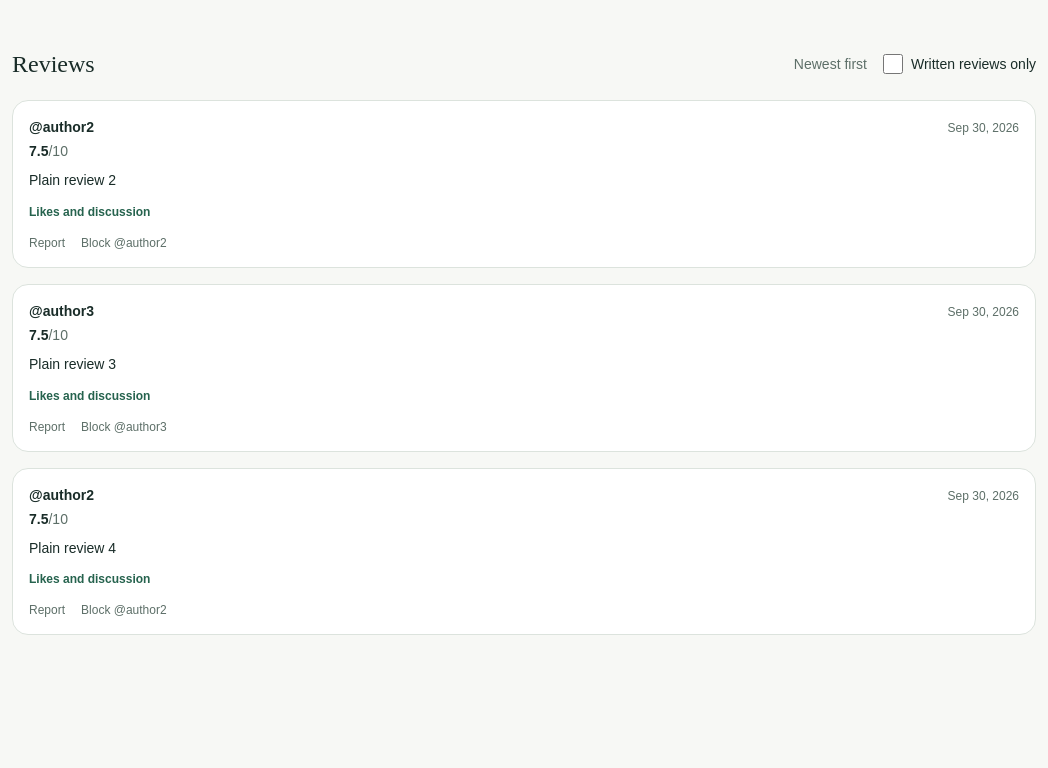
it: <ReviewList> › explains logged-out visibility before blocking, then hides the author with an undo
Click the button "Block @author2" below "Plain review 2" at (124, 243), box [81,235,167,251]
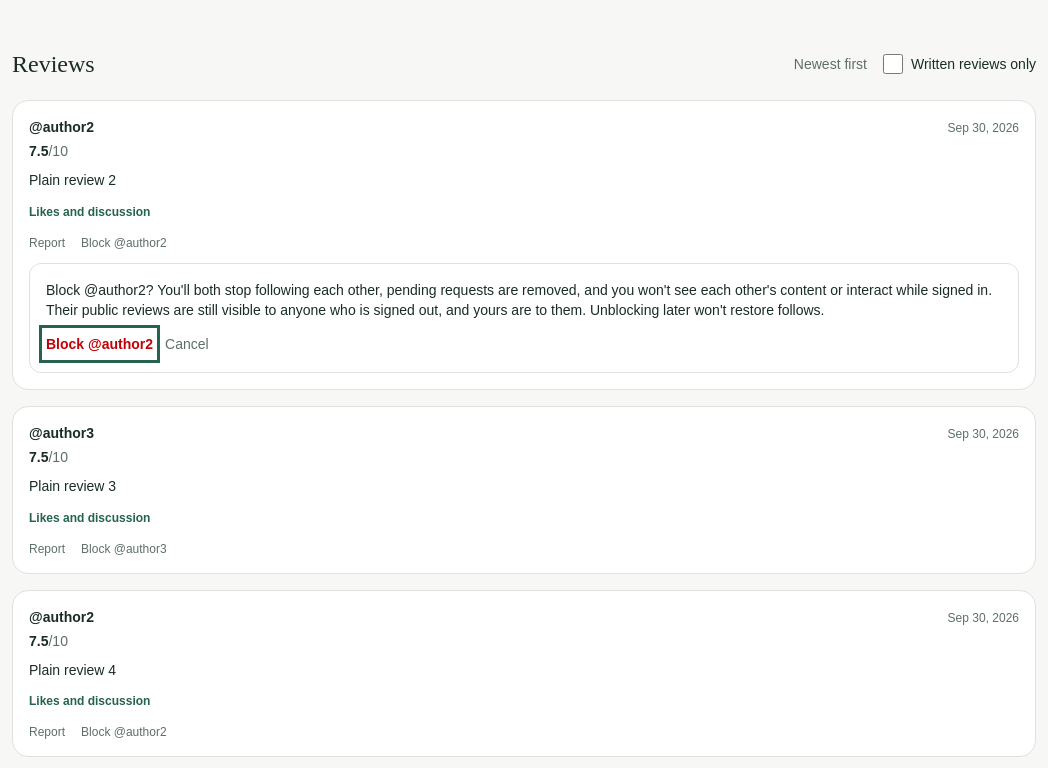
Expected: the element "Block @author2" shows "visible to anyone who is signed out", [46,282,992,318]
Expected: the element "Block @author2" shows "won't restore follows", [46,282,992,318]
Click the 2nd button "Block @author2" at (100, 344), box [46,332,153,356]
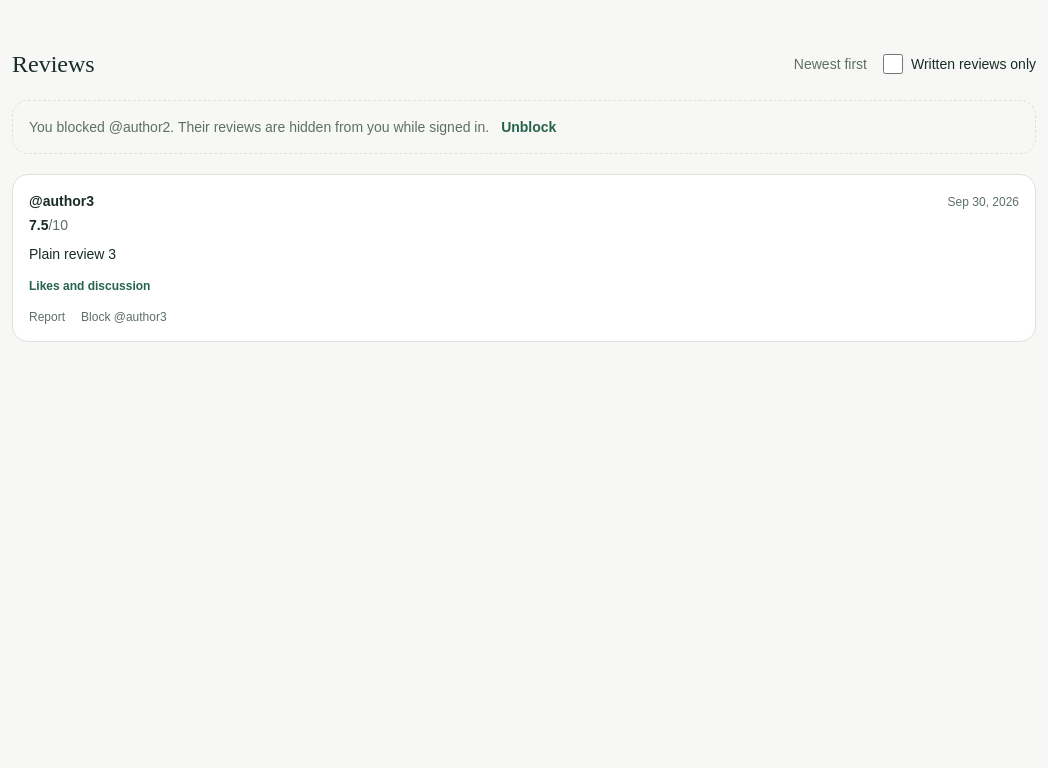
Expected: the text "Plain review 2" is gone
Expected: the text "Plain review 4" is gone
Expected: the message shows "You blocked @author2", [12,100,1036,154]
Click the button "Unblock" at (529, 127), box [501,117,556,137]
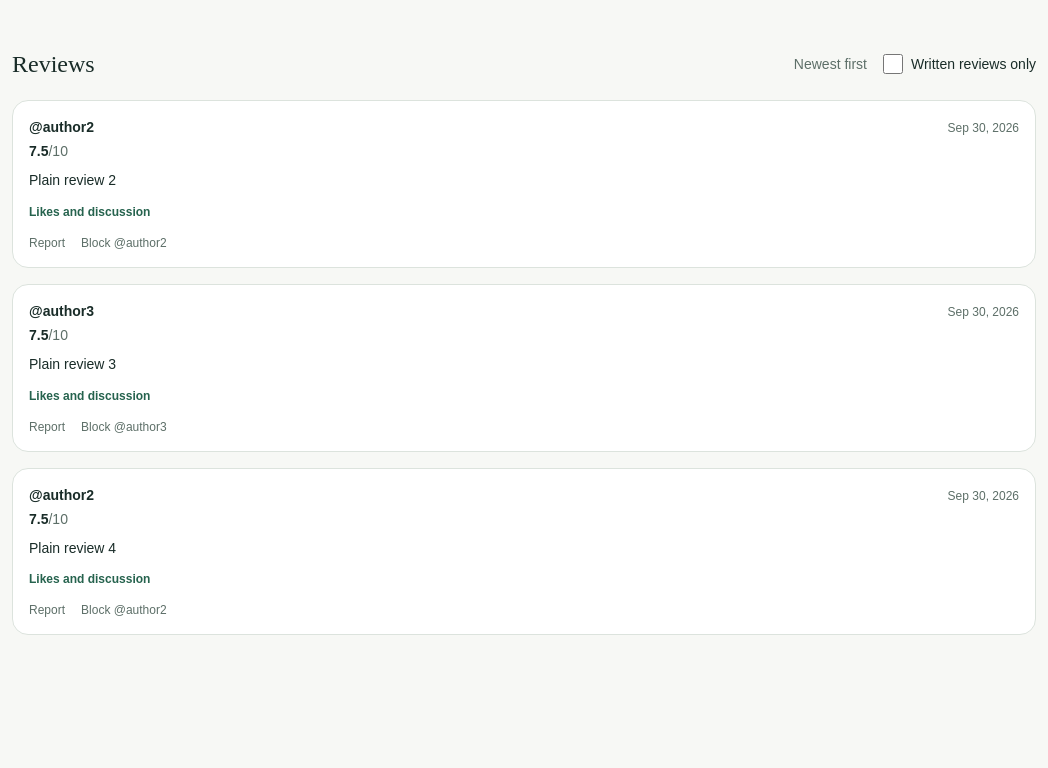
Expected: the text "Plain review 2" is shown, [29,172,116,188]
